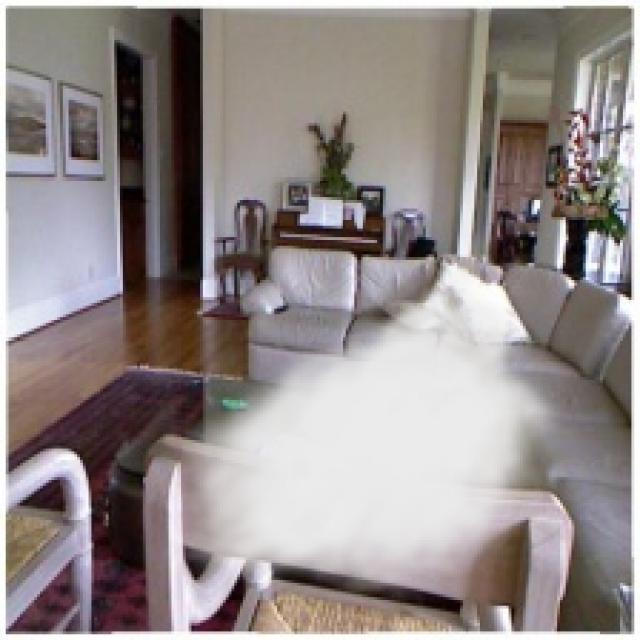smoke: (160, 223, 569, 603)
